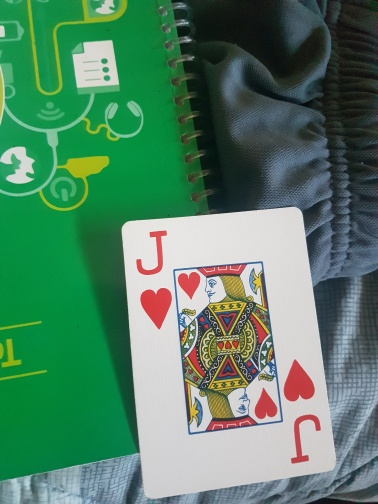jack: (120, 207, 340, 501)
